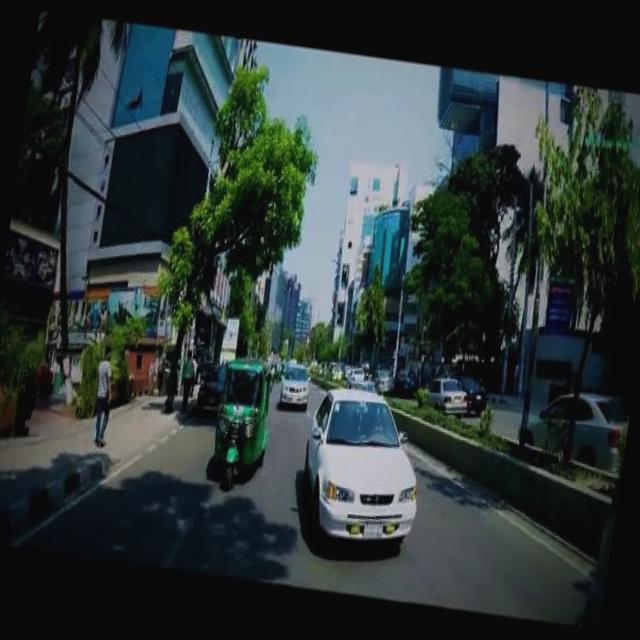car: (296, 382, 433, 544), (516, 379, 632, 461), (422, 372, 472, 410), (197, 358, 230, 412), (280, 363, 314, 406), (464, 374, 492, 407), (374, 364, 397, 389), (351, 364, 368, 379)
motorcycle: (209, 353, 281, 491)
